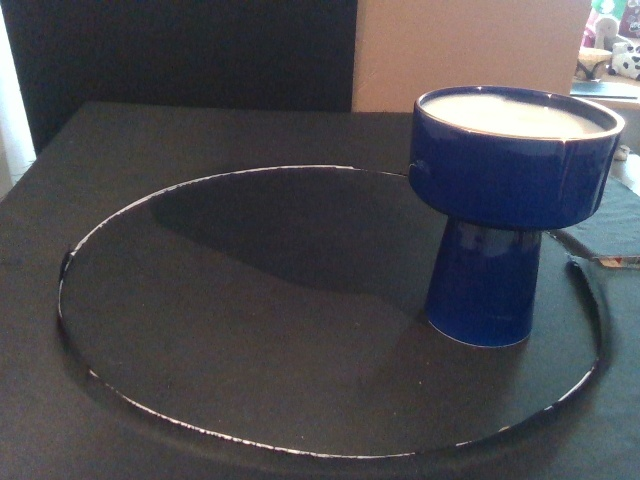candle: (409, 84, 625, 351)
